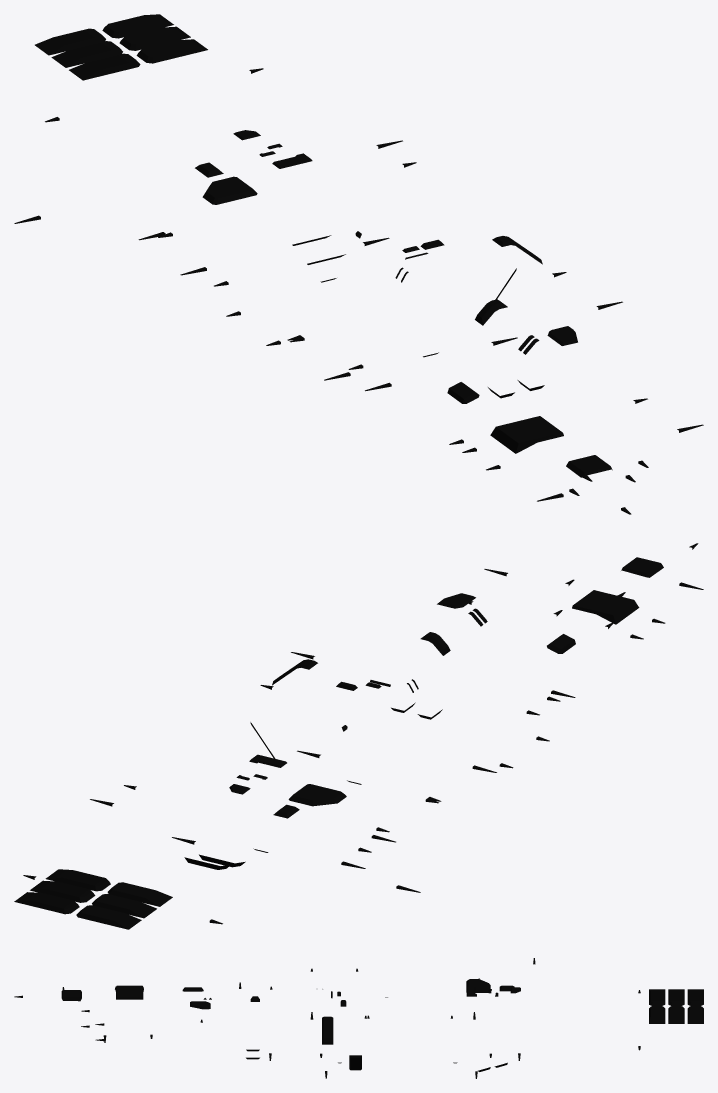
File: hgn_fs_expl_01_v2_t2.glb
The picture shows the model from 3 angles, top to bottom: view 1: azimuth 30°, elevation 25°; view 2: azimuth 150°, elevation 25°; view 3: azimuth 270°, elevation 25°; orthographic projection. The views are drawn at different scales.
Parts seen in each view (by area): view 1: hgn_fs_expl_01_v2_t2_01_LOD0, hgn_fs_expl_01_v2_t2_02_LOD0; view 2: hgn_fs_expl_01_v2_t2_01_LOD0, hgn_fs_expl_01_v2_t2_02_LOD0; view 3: hgn_fs_expl_01_v2_t2_01_LOD0, hgn_fs_expl_01_v2_t2_02_LOD0.
Boxes of the visible parts, x1,y1,x2,y2 form: hgn_fs_expl_01_v2_t2_01_LOD0: (14,14,703,514); hgn_fs_expl_01_v2_t2_02_LOD0: (233,130,428,282); hgn_fs_expl_01_v2_t2_01_LOD0: (14,543,703,929); hgn_fs_expl_01_v2_t2_02_LOD0: (229,679,418,794); hgn_fs_expl_01_v2_t2_01_LOD0: (14,958,703,1078); hgn_fs_expl_01_v2_t2_02_LOD0: (322,986,520,998).
Size of what is drawn, in the model's own units: 5.29 by 1.56 by 14.88.
Materials: 2 (2 with a texture image).
